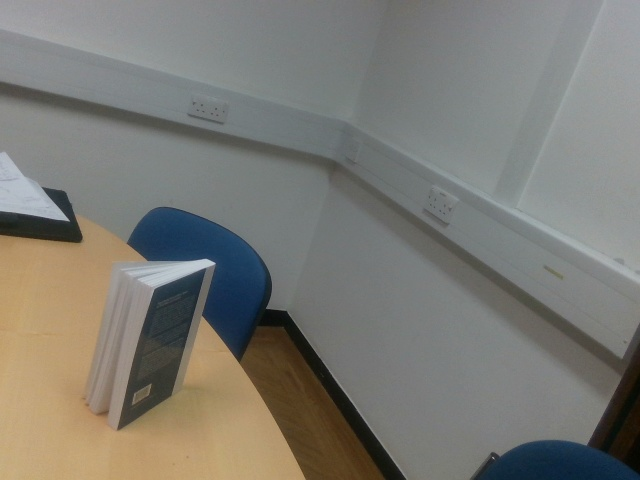book: (84, 258, 217, 431)
